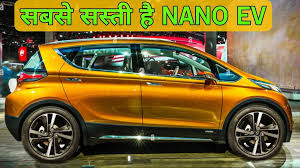Nano: (6, 36, 292, 167)
